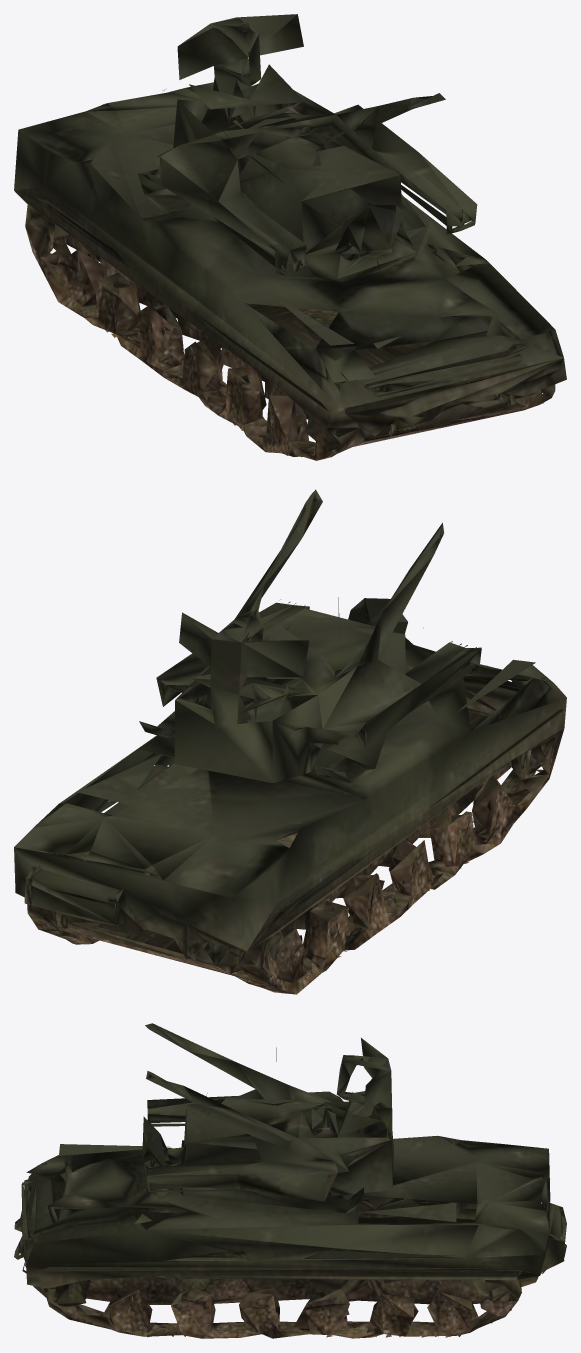
The model's file is sam_tunguska.glb.
The picture shows the model from 3 angles, top to bottom: view 1: azimuth 30°, elevation 25°; view 2: azimuth 150°, elevation 25°; view 3: azimuth 270°, elevation 25°; orthographic projection. The views are drawn at different scales.
Visible parts, largest first — view 1: 2S6_tunguska.stl; view 2: 2S6_tunguska.stl; view 3: 2S6_tunguska.stl.
Boxes of the visible parts, x1=… form: 2S6_tunguska.stl: x1=14, y1=14, x2=566, y2=460; 2S6_tunguska.stl: x1=14, y1=489, x2=566, y2=994; 2S6_tunguska.stl: x1=14, y1=1023, x2=566, y2=1338.
Bounding box in the file's own units: 3.12 × 3.96 × 7.9.
Materials: 1 (1 with a texture image).
